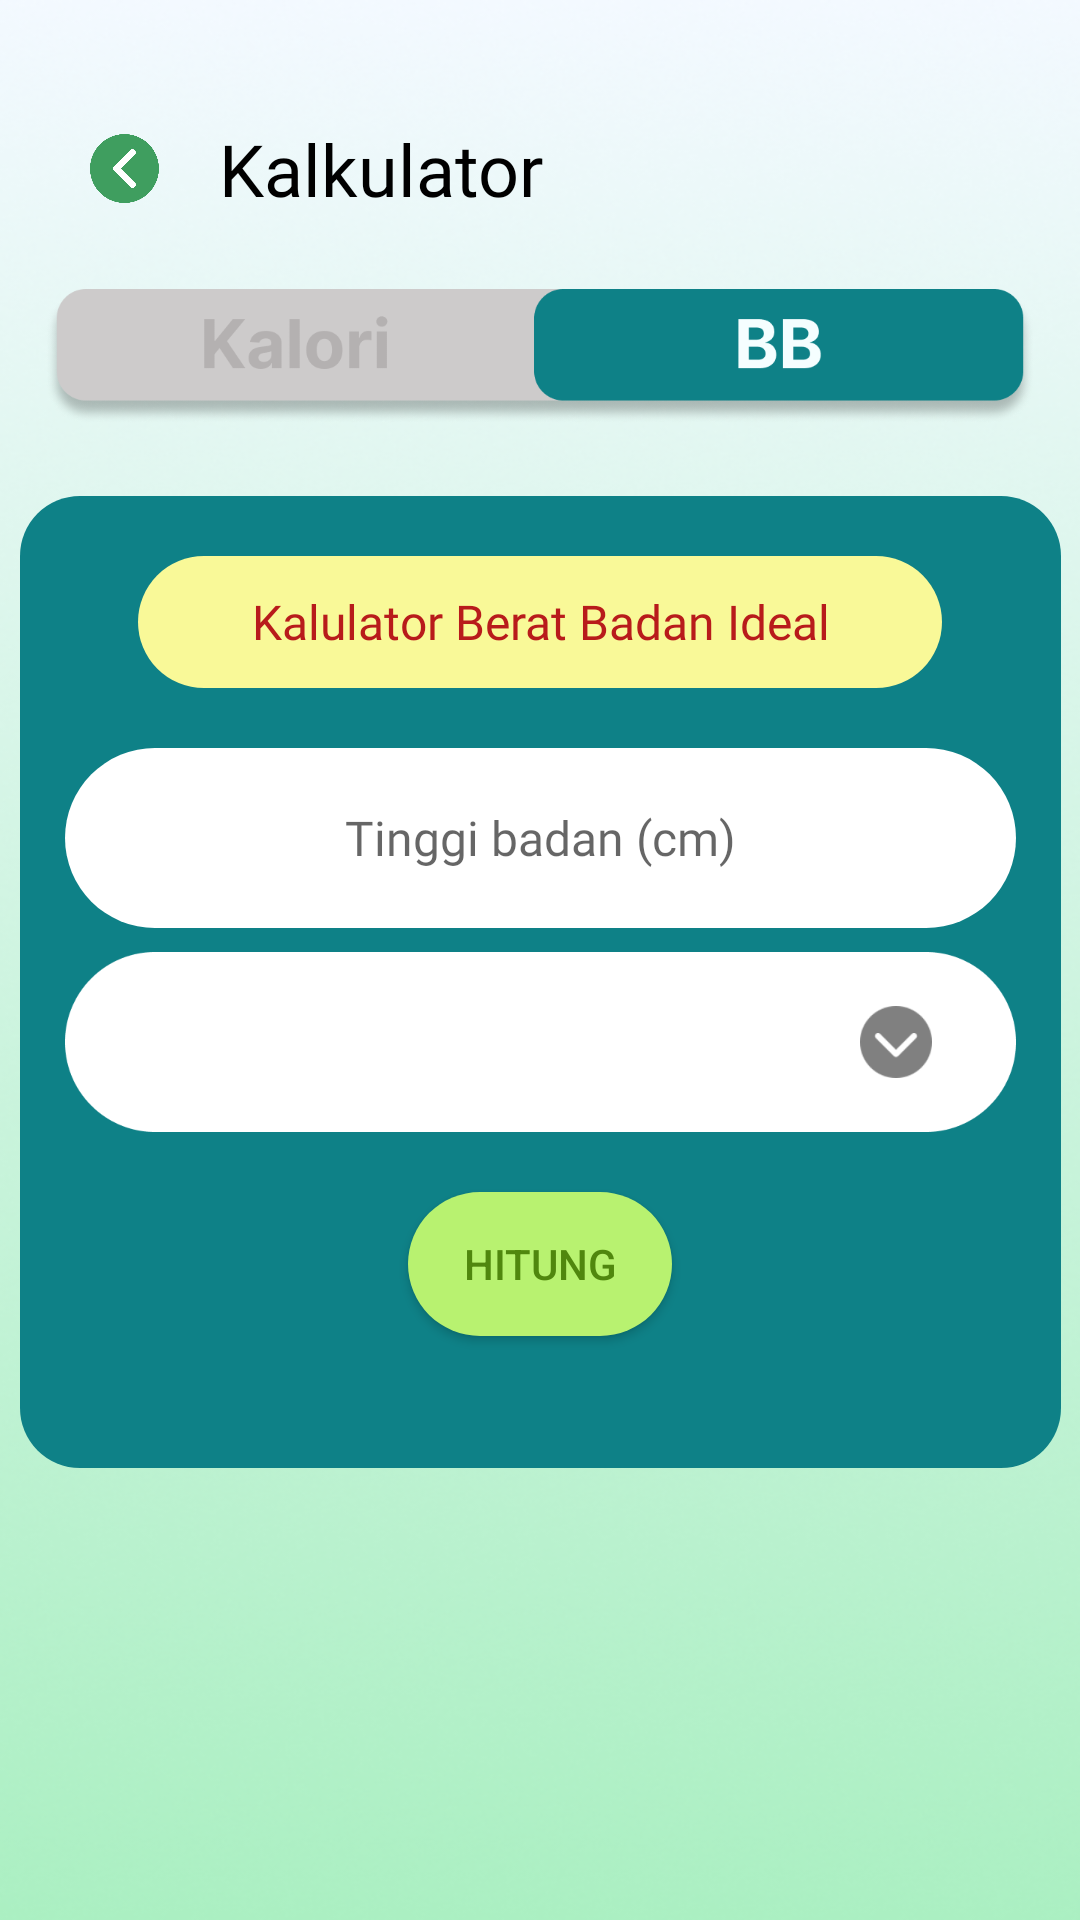

Where to tap for icons on this 1080*1920 app screen, as point (x, y):
back: point (124, 168)
